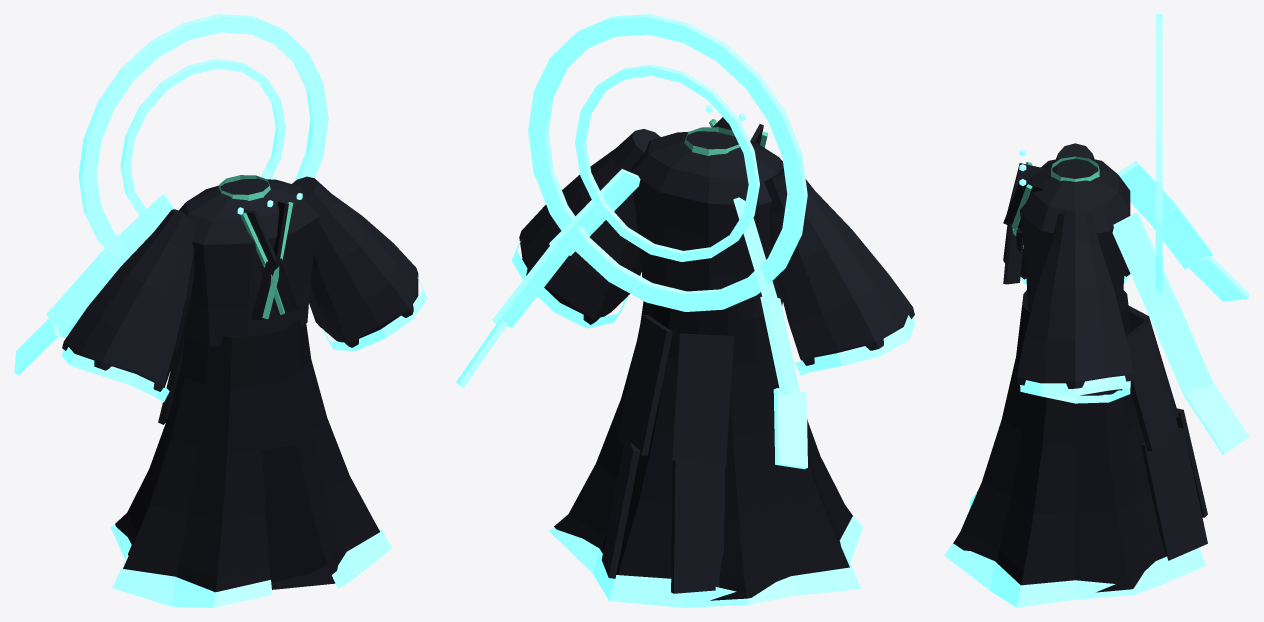
File: gear_dopo_t5.glb
The picture shows the model from 3 angles, left to right: view 1: azimuth 30°, elevation 25°; view 2: azimuth 150°, elevation 25°; view 3: azimuth 270°, elevation 25°; orthographic projection. The views are drawn at different scales.
Parts seen in each view (by area): view 1: gear_dopo_t5; view 2: gear_dopo_t5; view 3: gear_dopo_t5.
Part boxes in pixels (left/top/right/bottom): gear_dopo_t5: left=14, top=14, right=427, bottom=607; gear_dopo_t5: left=456, top=14, right=915, bottom=607; gear_dopo_t5: left=944, top=14, right=1249, bottom=607.
Size of the model in its own units: 1.42 by 2 by 1.05.
